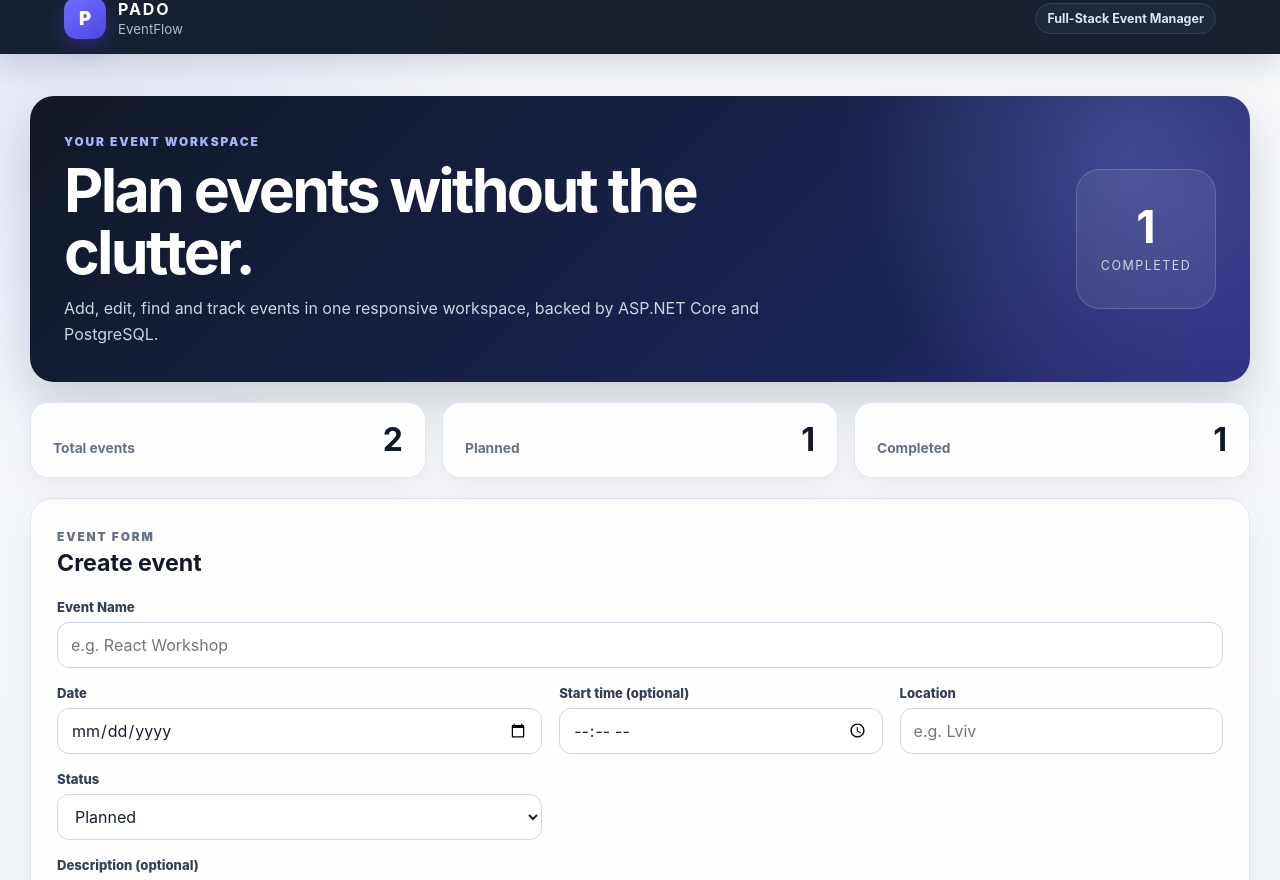
Test case: creates event with POST and shows it from GET
Type "Demo Conference" into the field labelled "Event Name" at [640, 645], box [57,622,1223,668]
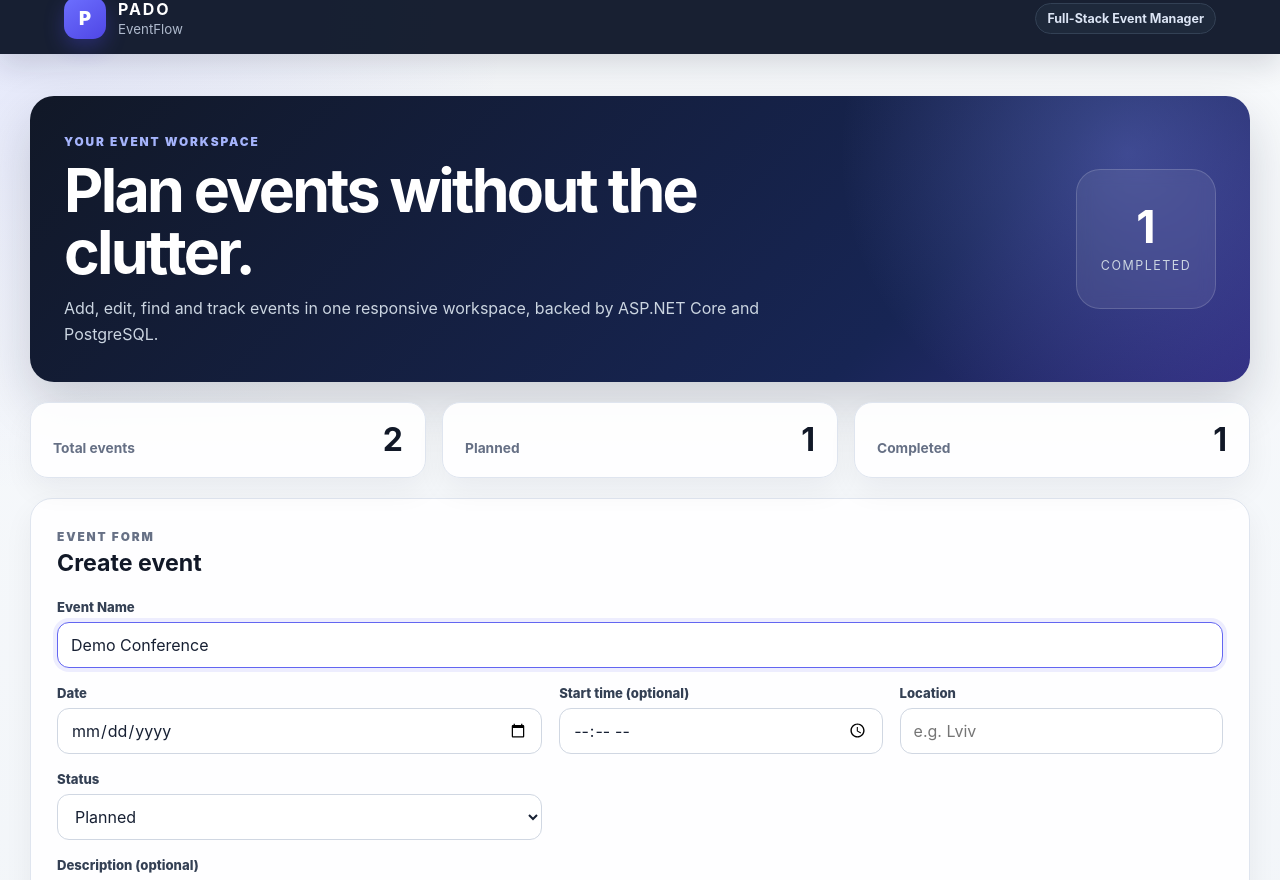
Type "2026-12-05" into the date field labelled "Date" at [300, 731], box [57,708,542,754]
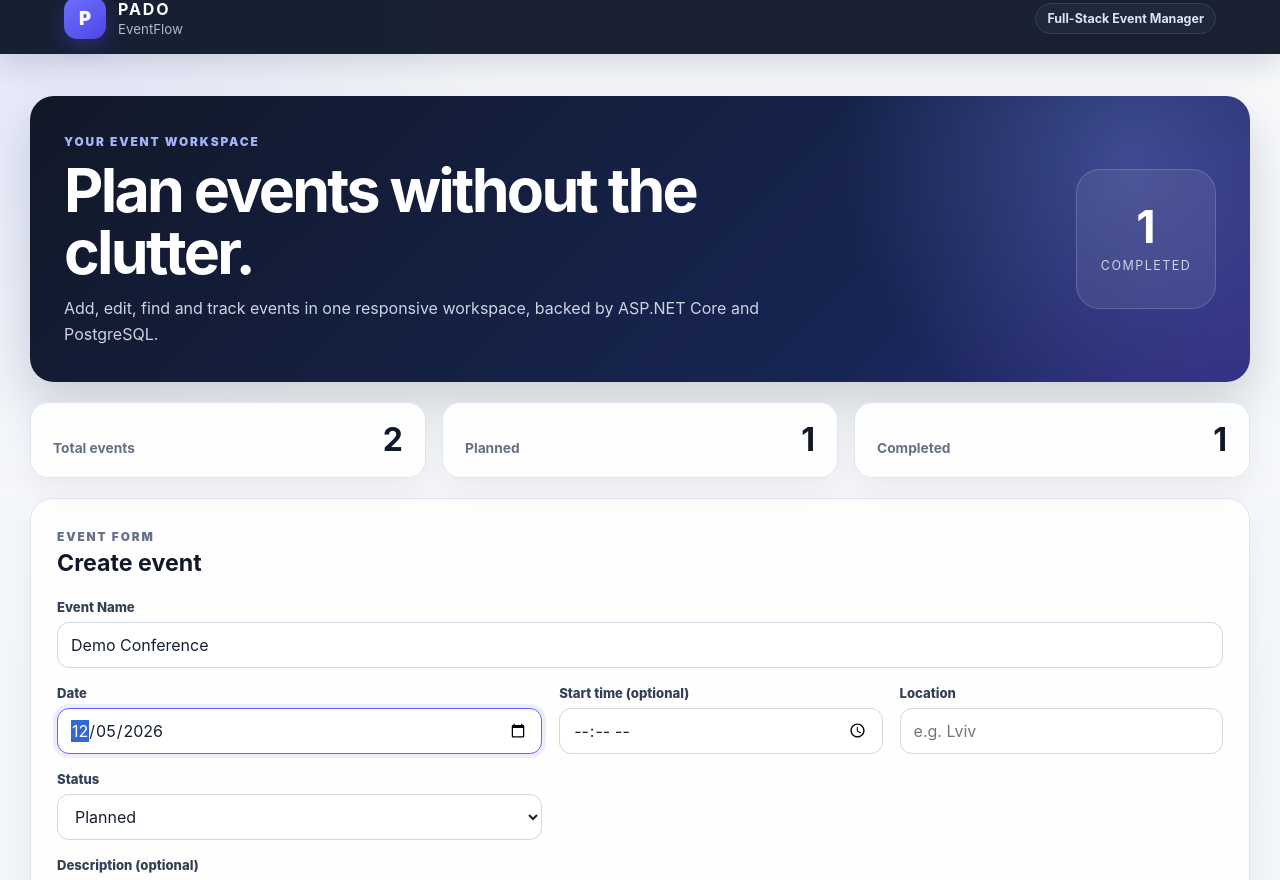
Type "Lutsk" into the field labelled "Location" at [1061, 731], box [900,708,1223,754]
(page scrolled)
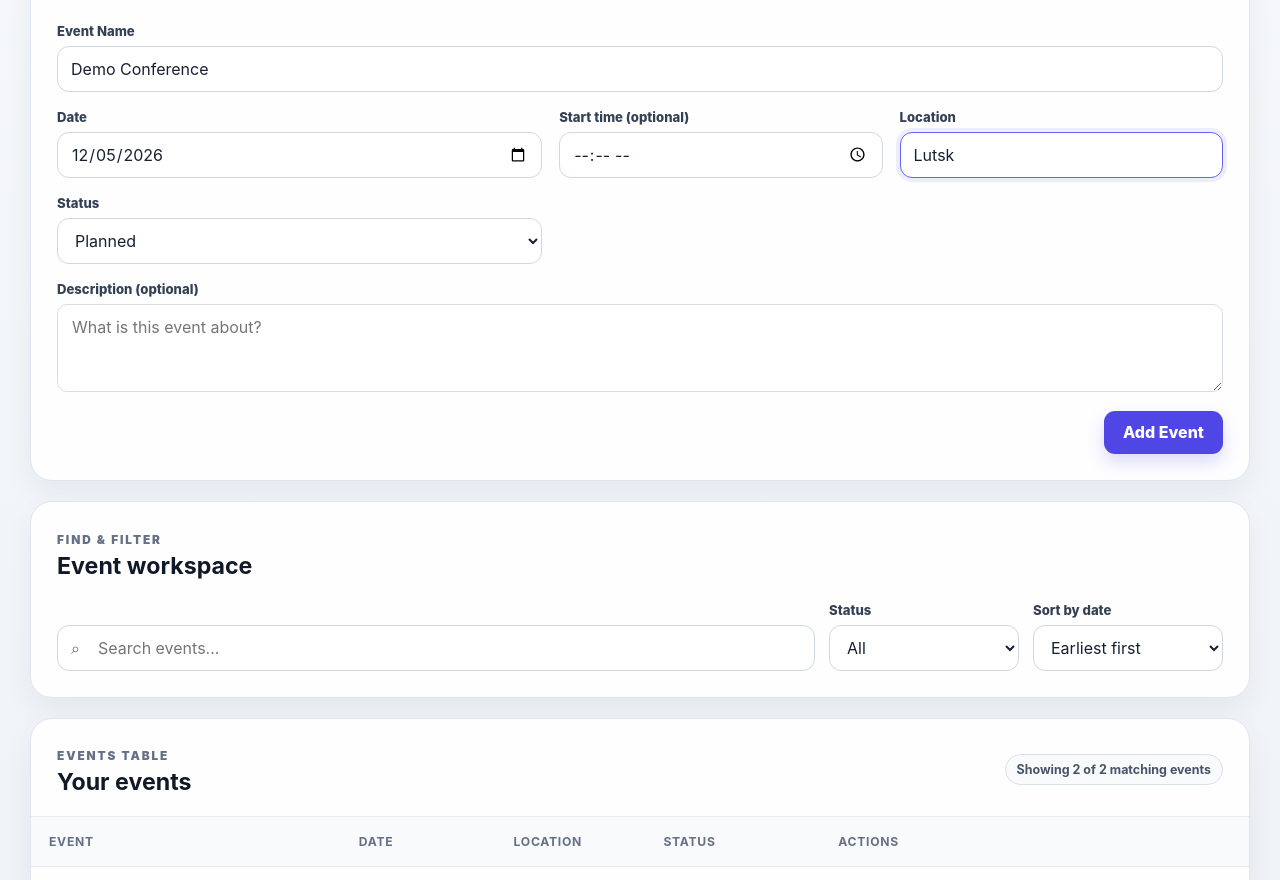
Click the button "Add Event" at [1164, 432], box [1104,411,1223,454]
(page scrolled)
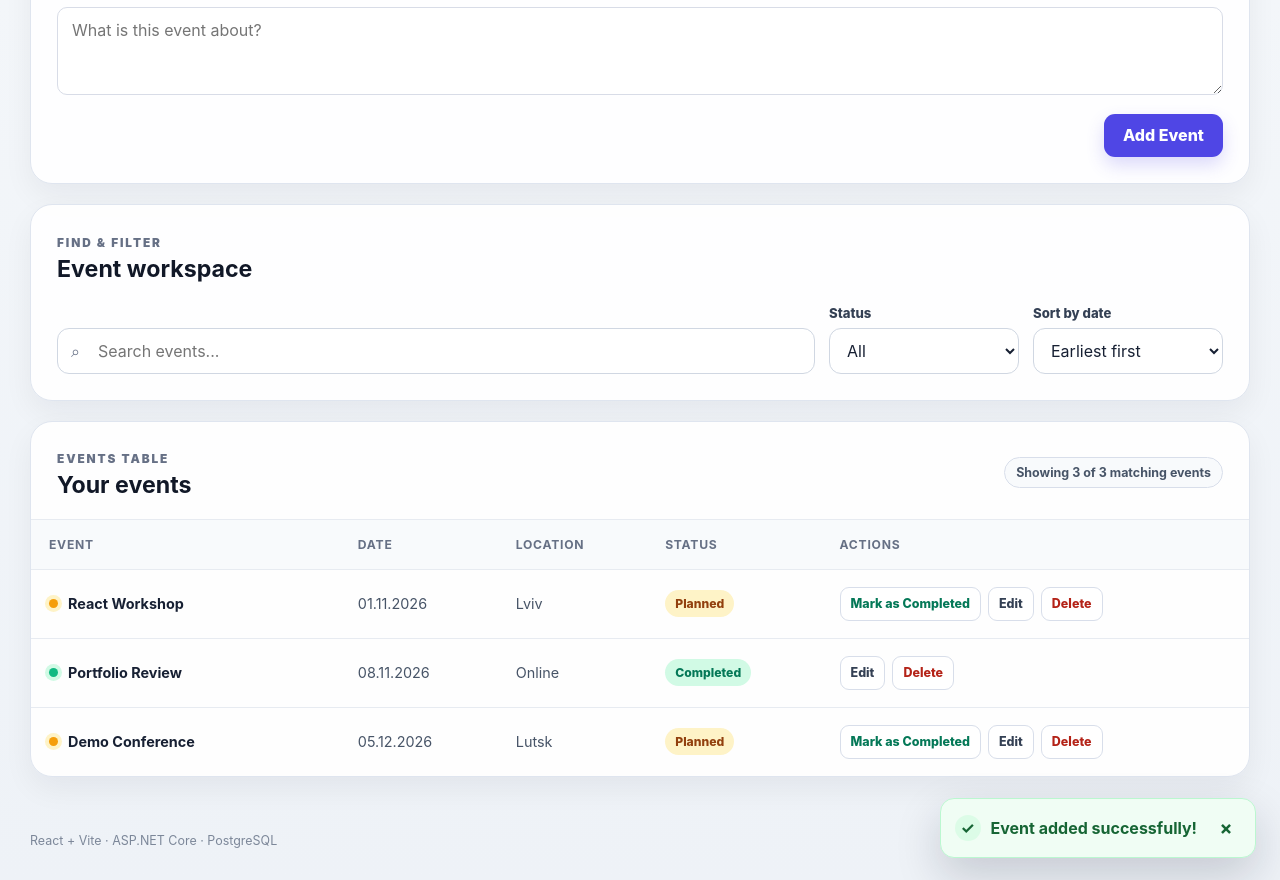
Expected: the text "Demo Conference" is shown, [68,733,195,750]
